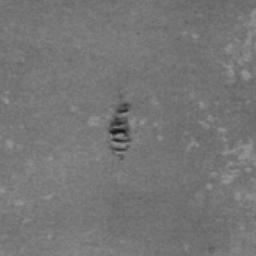Secondary rust skin: (107, 102, 132, 152)
